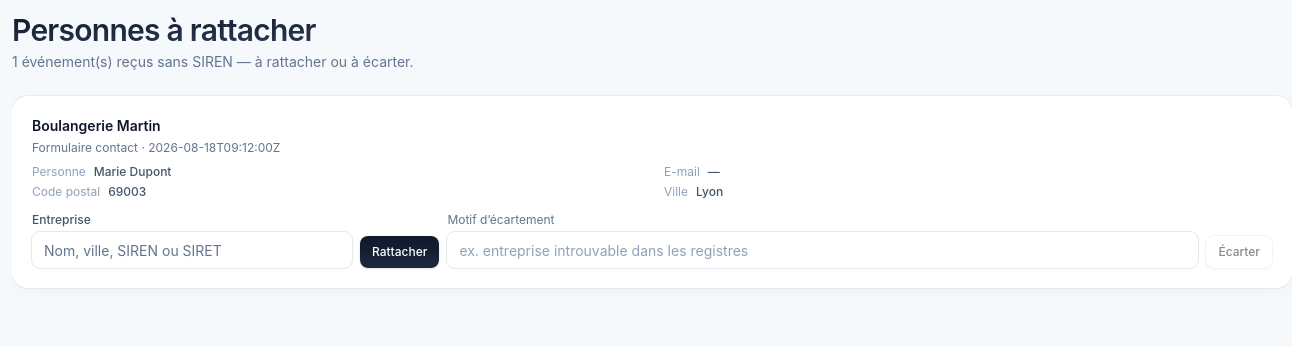
ChoixEntreprise — rattacher en cherchant l’entreprise › erreur : une recherche trop large et une panne se disent en français, sans liste vide trompeuse
Type "boulangerie" into the dropdown labelled "Entreprise" at {"x": 192, "y": 250}, box [32, 232, 352, 268]
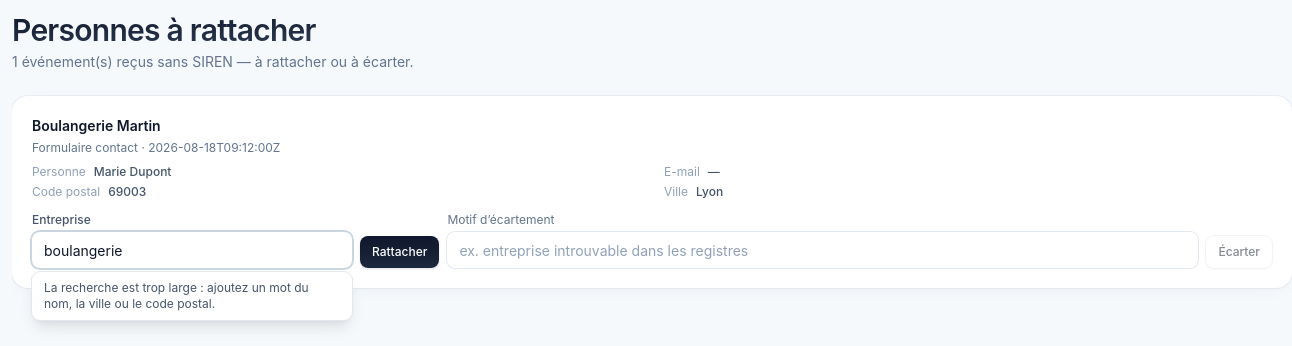
Now the text "La recherche est trop large : ajoutez un mot du nom, la ville ou le code postal." is shown, box [32, 272, 352, 320]
Type "x" into the dropdown labelled "Entreprise" at {"x": 192, "y": 250}, box [32, 232, 352, 268]
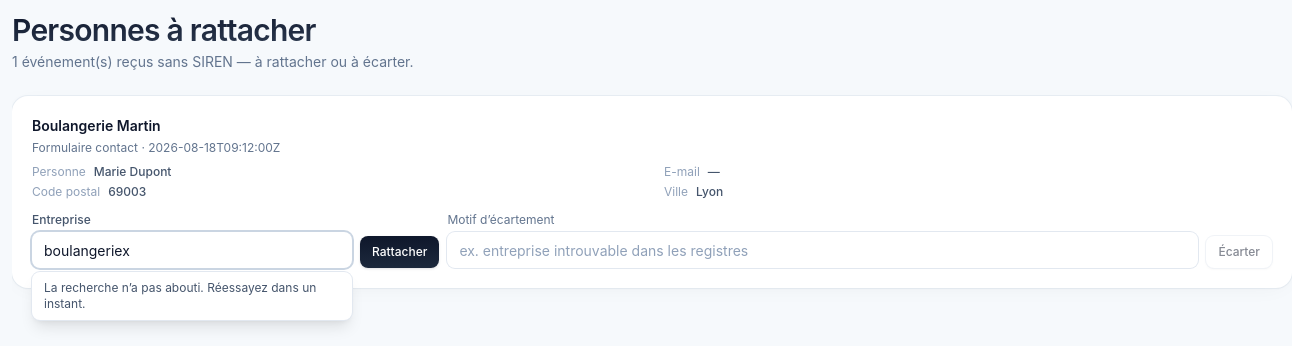
Now the text "La recherche n’a pas abouti. Réessayez dans un instant." is shown, box [32, 272, 352, 320]
